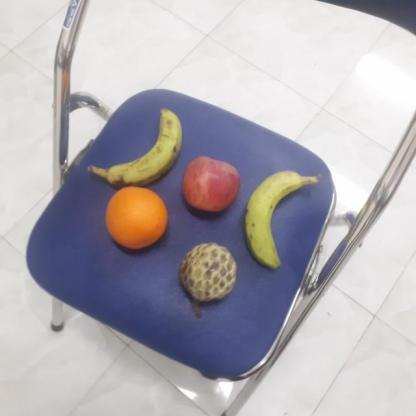annona: (176, 240, 237, 302)
apple: (182, 154, 246, 213)
banana: (240, 168, 315, 270), (103, 107, 191, 188)
orange: (104, 184, 170, 251)
